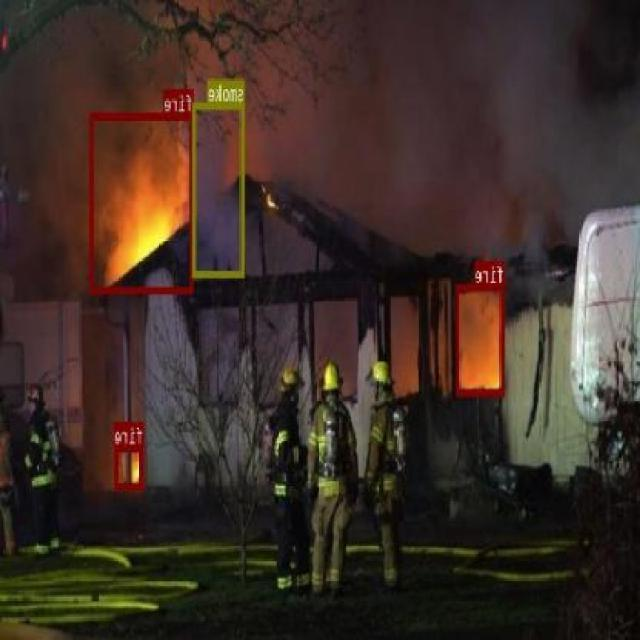Fire: (91, 111, 194, 292), (457, 282, 505, 396), (116, 444, 144, 488)
Smoke: (192, 102, 245, 276)
